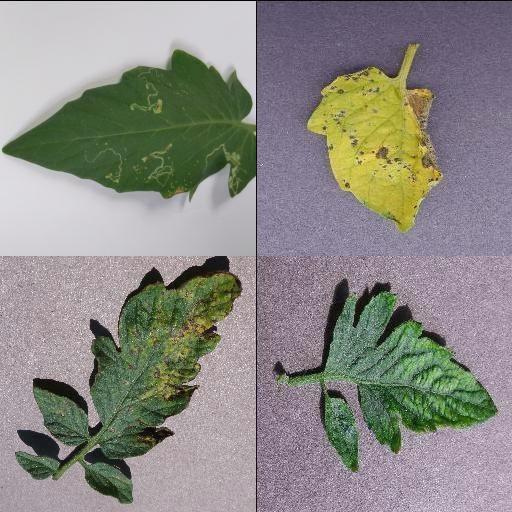Leaf Miner: (1, 50, 256, 200)
Mosaic Virus: (321, 293, 501, 457)
Septoria: (90, 269, 242, 459), (306, 67, 439, 235)
